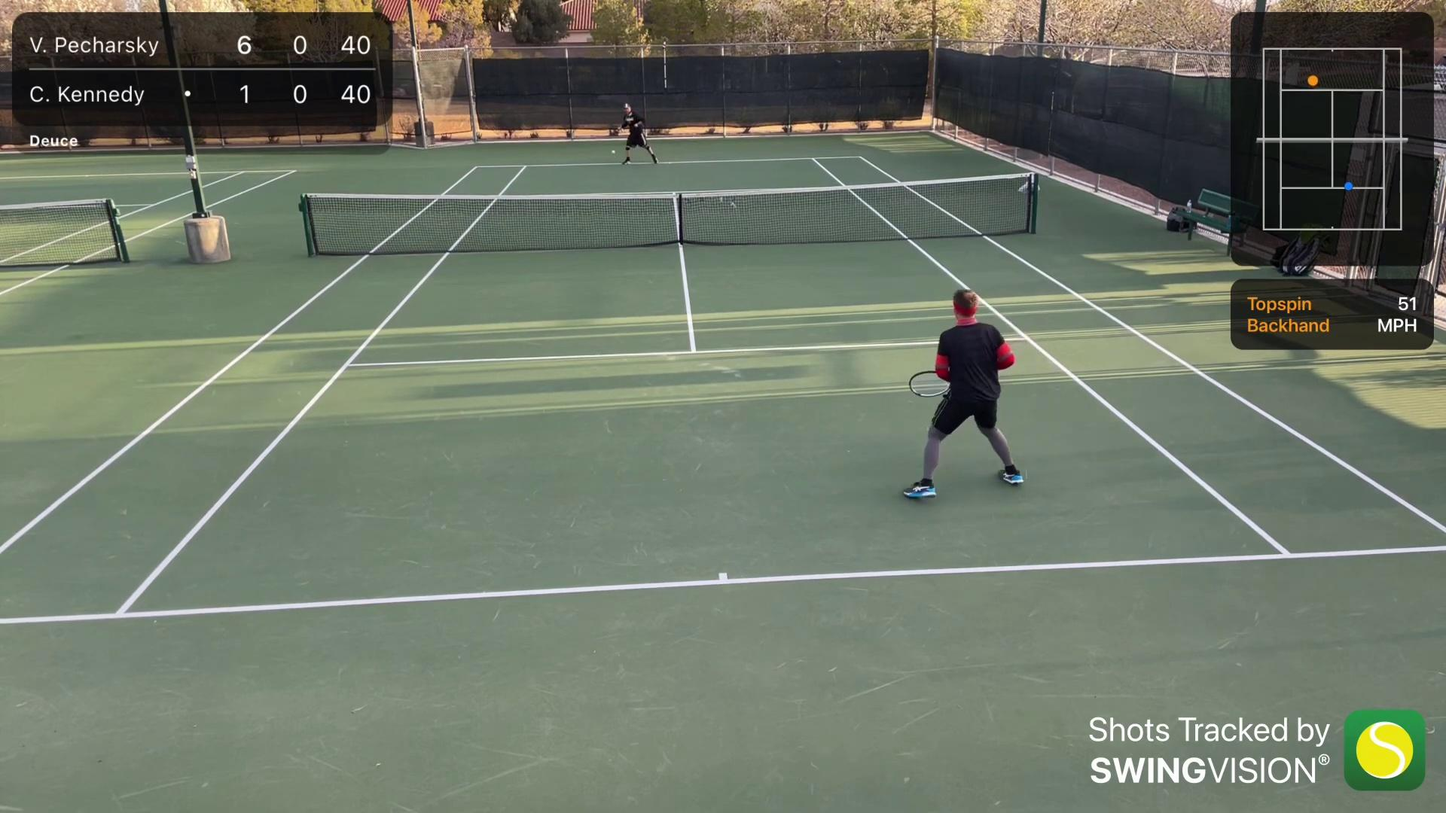ball: (610, 150, 615, 155)
